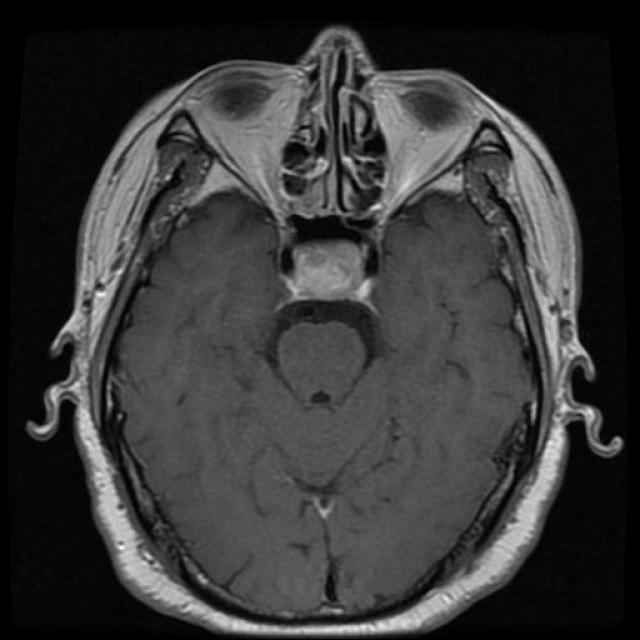pituitary: (280, 236, 378, 309)
